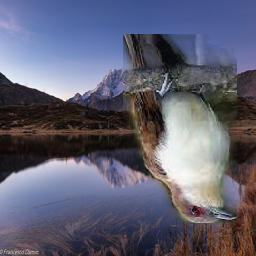Cuckoo: (123, 35, 237, 224)
